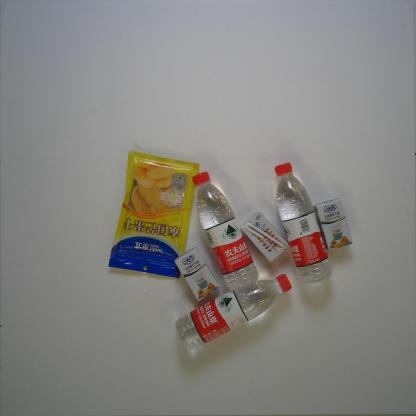Dried Fruit: (107, 150, 201, 281)
Drink: (172, 272, 293, 351), (190, 170, 261, 294), (274, 161, 334, 287)
Milk: (173, 245, 221, 304), (240, 210, 291, 263), (313, 197, 355, 252)
